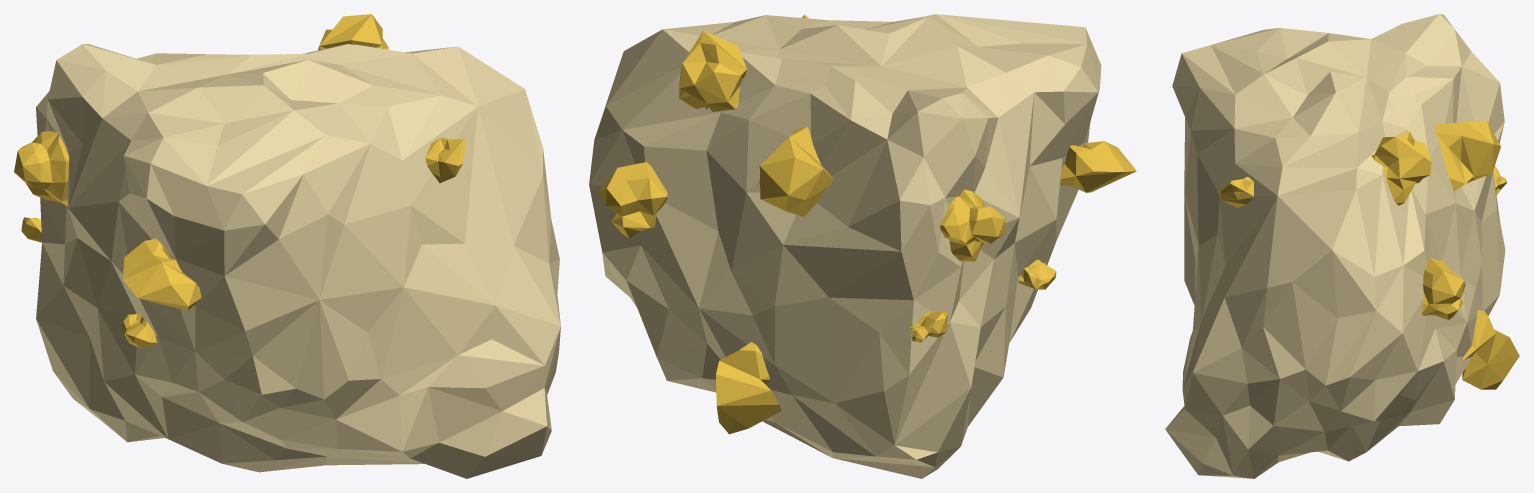
The model's file is MetalOre (62).fbx.
The picture shows the model from 3 angles, left to right: view 1: azimuth 30°, elevation 25°; view 2: azimuth 150°, elevation 25°; view 3: azimuth 270°, elevation 25°; orthographic projection. The views are drawn at different scales.
Visible parts, largest first — view 1: Asteroid353; view 2: Asteroid353; view 3: Asteroid353.
Boxes of the visible parts, <box> form: Asteroid353: <box>14,14,560,478</box>; Asteroid353: <box>589,14,1136,478</box>; Asteroid353: <box>1165,14,1519,478</box>.
Bounding box in the file's own units: 768 × 636 × 586.
